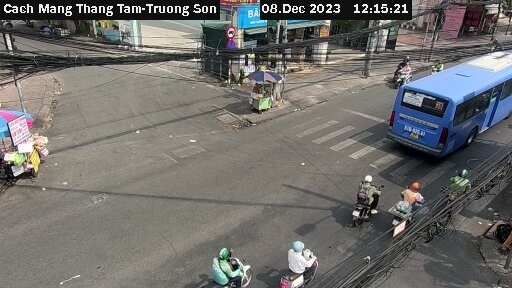bus: (388, 52, 512, 154)
motorbike: (185, 244, 258, 288), (270, 245, 328, 288), (390, 177, 432, 231), (338, 179, 381, 223), (392, 64, 414, 83)
